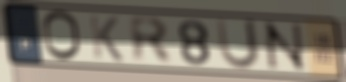8: (176, 19, 214, 66)
K: (87, 13, 126, 64)
N: (261, 21, 311, 73)
O: (40, 9, 84, 63)
R: (125, 14, 176, 66)
U: (213, 16, 262, 73)
